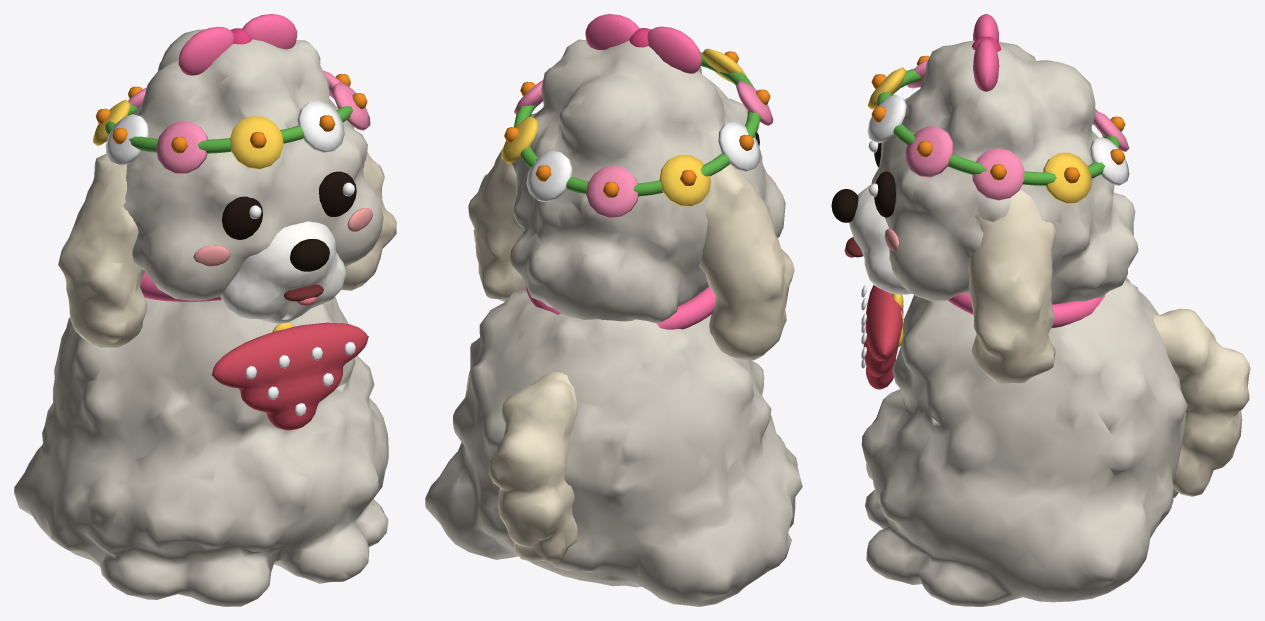
File: florzinha.glb
The picture shows the model from 3 angles, left to right: view 1: azimuth 30°, elevation 25°; view 2: azimuth 150°, elevation 25°; view 3: azimuth 270°, elevation 25°; orthographic projection. The views are drawn at different scales.
Parts seen in each view (by area): view 1: flor_corpo, flor_cabeca, flor_orelha_L, flor_acc_coroa, flor_acc_bandana, flor_focinho, flor_acc_laco_abas, flor_orelha_R, flor_acc_coroa_miolos, flor_olho_L, flor_olho_R, flor_nariz (+3 smaller); view 2: flor_corpo, flor_cabeca, flor_orelha_L, flor_rabo, flor_acc_coroa, flor_orelha_R, flor_acc_laco_abas, flor_coleira, flor_acc_coroa_miolos; view 3: flor_corpo, flor_cabeca, flor_orelha_R, flor_acc_coroa, flor_rabo, flor_acc_bandana, flor_focinho, flor_acc_laco_abas, flor_acc_coroa_miolos, flor_coleira, flor_olho_R, flor_nariz.
Boxes of the visible parts, x1,y1,x2,y2 form: flor_corpo: (14, 296, 388, 606); flor_cabeca: (123, 29, 383, 300); flor_orelha_L: (58, 154, 147, 347); flor_acc_coroa: (93, 70, 370, 173); flor_acc_bandana: (211, 322, 368, 430); flor_focinho: (220, 221, 346, 323); flor_acc_laco_abas: (178, 14, 297, 75); flor_orelha_R: (341, 152, 396, 290); flor_acc_coroa_miolos: (95, 74, 367, 153); flor_olho_L: (222, 196, 262, 239); flor_olho_R: (319, 171, 356, 216); flor_nariz: (290, 239, 329, 271); flor_corpo: (425, 290, 802, 606); flor_cabeca: (510, 28, 785, 322); flor_orelha_L: (699, 164, 794, 360); flor_rabo: (488, 372, 577, 562); flor_acc_coroa: (501, 48, 773, 218); flor_orelha_R: (468, 149, 526, 301); flor_acc_laco_abas: (585, 14, 701, 73); flor_coleira: (525, 285, 715, 329); flor_acc_coroa_miolos: (504, 51, 770, 197); flor_corpo: (861, 277, 1187, 606); flor_cabeca: (871, 40, 1138, 304); flor_orelha_R: (968, 190, 1055, 383); flor_acc_coroa: (867, 59, 1129, 203); flor_rabo: (1153, 308, 1250, 496); flor_acc_bandana: (863, 285, 903, 389); flor_focinho: (849, 183, 911, 294); flor_acc_laco_abas: (973, 14, 999, 91); flor_acc_coroa_miolos: (871, 55, 1125, 183); flor_coleira: (947, 293, 1104, 328); flor_olho_R: (874, 171, 895, 217); flor_nariz: (831, 189, 858, 222).
Bounding box in the file's own units: 0.598 × 0.9389 × 0.68.
